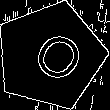O_SW: (17, 22, 83, 89)
